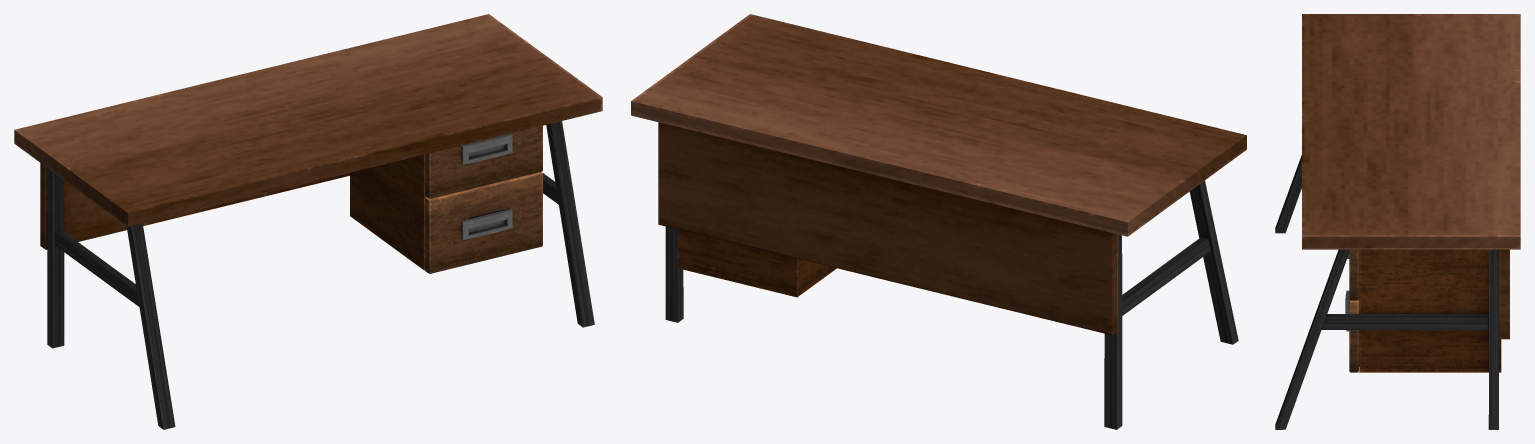
The model's file is desk fbx.fbx.
The picture shows the model from 3 angles, left to right: view 1: azimuth 30°, elevation 25°; view 2: azimuth 150°, elevation 25°; view 3: azimuth 270°, elevation 25°; orthographic projection. The views are drawn at different scales.
Parts seen in each view (by area): view 1: Box001, Object014, Box004, Box007, Object001, Box002, Box003, Box006; view 2: Box001, Box002, Box007, Box003, Box004, Box006; view 3: Box001, Box007, Box004, Box006, Box003, Box002, Object014, Object001.
Part boxes in pixels (left/top/right/bottom): Box001: left=14, top=14, right=602, bottom=226; Object014: left=424, top=171, right=542, bottom=273; Box004: left=126, top=121, right=594, bottom=429; Box007: left=350, top=154, right=425, bottom=270; Object001: left=424, top=125, right=542, bottom=198; Box002: left=40, top=163, right=350, bottom=249; Box003: left=47, top=168, right=64, bottom=348; Box006: left=55, top=173, right=558, bottom=306; Box001: left=631, top=14, right=1246, bottom=236; Box002: left=658, top=122, right=1117, bottom=335; Box007: left=677, top=229, right=836, bottom=297; Box003: left=665, top=226, right=1122, bottom=429; Box004: left=1189, top=180, right=1238, bottom=344; Box006: left=1122, top=237, right=1211, bottom=315; Box001: left=1302, top=14, right=1520, bottom=249; Box007: left=1359, top=249, right=1501, bottom=372; Box004: left=1275, top=155, right=1349, bottom=429; Box006: left=1321, top=314, right=1488, bottom=330; Box003: left=1488, top=249, right=1498, bottom=429; Box002: left=1499, top=249, right=1509, bottom=339; Object014: left=1345, top=290, right=1359, bottom=372; Object001: left=1347, top=249, right=1359, bottom=300.
Size of the model in its own units: 89.55 by 38.21 by 41.71.
Materials: 2 (2 with a texture image).
